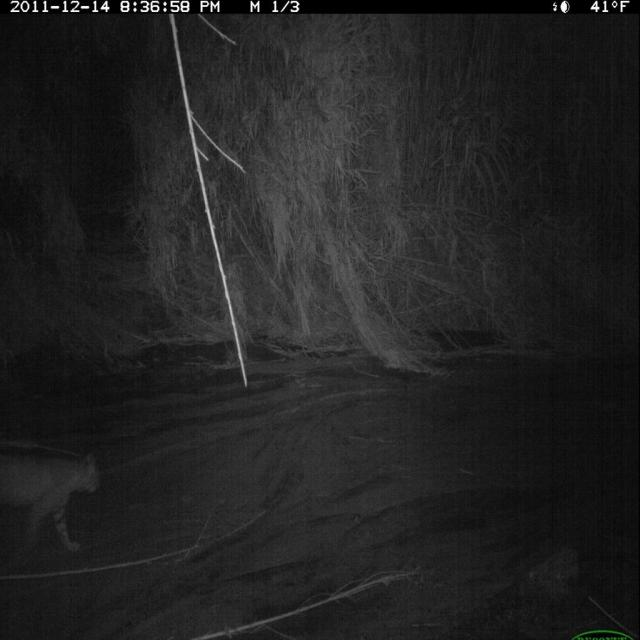bobcat: (2, 438, 106, 567)
